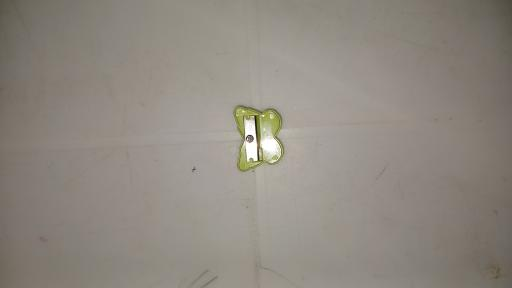Sharpener: (233, 105, 284, 175)
